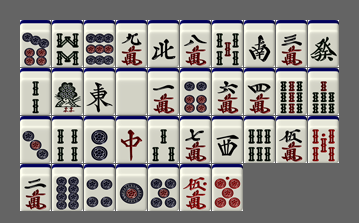0m: (180, 164, 211, 211)
0p: (212, 164, 243, 211)
0s: (308, 116, 339, 163)
1m: (148, 68, 179, 115)
1p: (116, 164, 147, 211)
1s: (52, 68, 83, 115)
1z: (84, 68, 115, 115)
2m: (20, 164, 51, 211)
2p: (84, 116, 115, 163)
2s: (20, 68, 51, 115)
2z: (244, 20, 275, 67)
3m: (276, 20, 307, 67)
3p: (20, 116, 51, 163)
3s: (148, 116, 179, 163)
3z: (212, 116, 243, 163)
4m: (244, 68, 275, 115)
4p: (84, 164, 115, 211)
4s: (52, 116, 83, 163)
4z: (148, 20, 179, 67)
5m: (276, 116, 307, 163)
5p: (148, 164, 179, 211)
5s: (212, 20, 243, 67)
5z: (116, 68, 147, 115)
6m: (212, 68, 243, 115)
6p: (180, 68, 211, 115)
6s: (244, 116, 275, 163)
6z: (308, 20, 339, 67)
7m: (180, 116, 211, 163)
7p: (20, 20, 51, 67)
7s: (308, 68, 339, 115)
7z: (116, 116, 147, 163)
8m: (180, 20, 211, 67)
8p: (52, 164, 83, 211)
8s: (52, 20, 83, 67)
9m: (116, 20, 147, 67)
9p: (84, 20, 115, 67)
9s: (276, 68, 307, 115)
